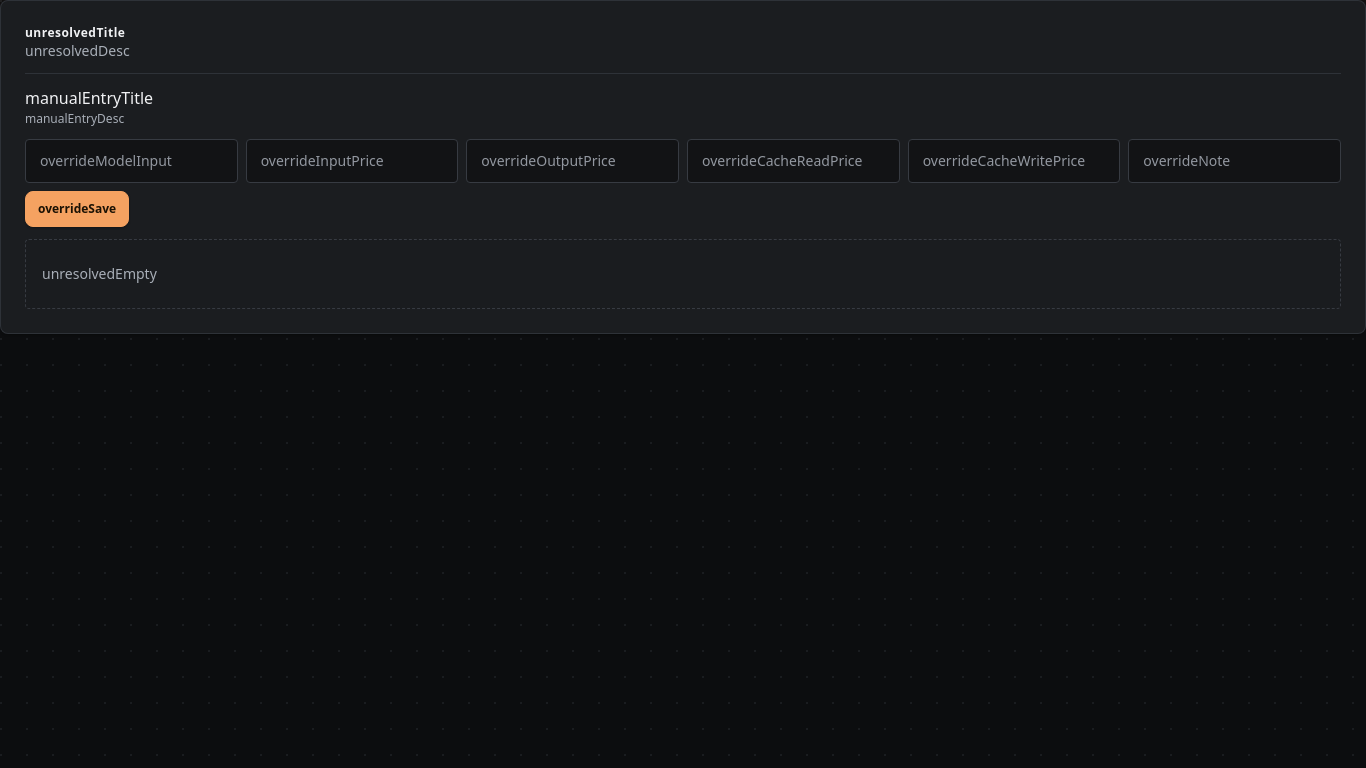
Test: UnresolvedModelsSection › manual entry form › switches to the update label and shows a delete button when the typed model already has a manual override
Step 1. Type "existing-model" into the field with placeholder "overrideModelInput" → (131, 161), box [25, 139, 238, 183]
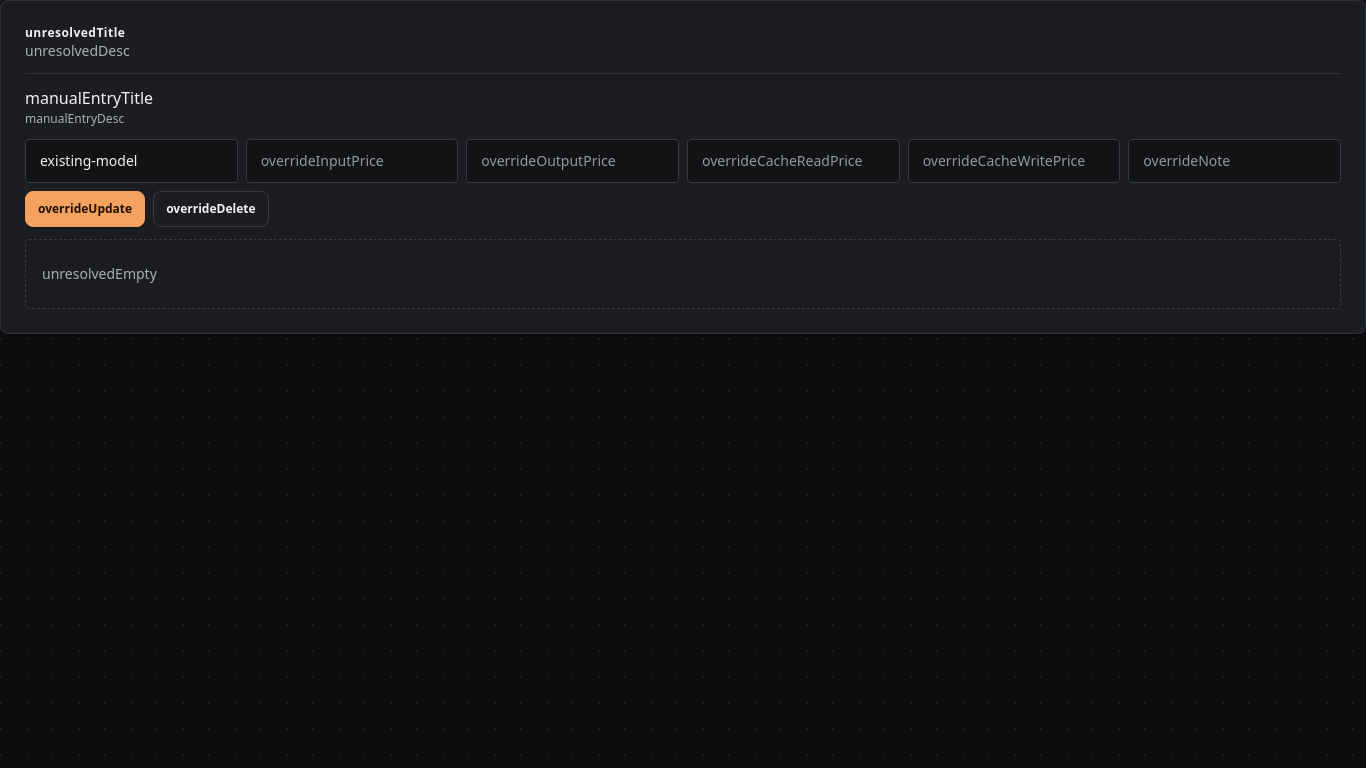
Result: the button "overrideUpdate" is shown at [25, 191, 145, 227]
Result: the button "overrideDelete" is shown at [153, 191, 269, 227]
